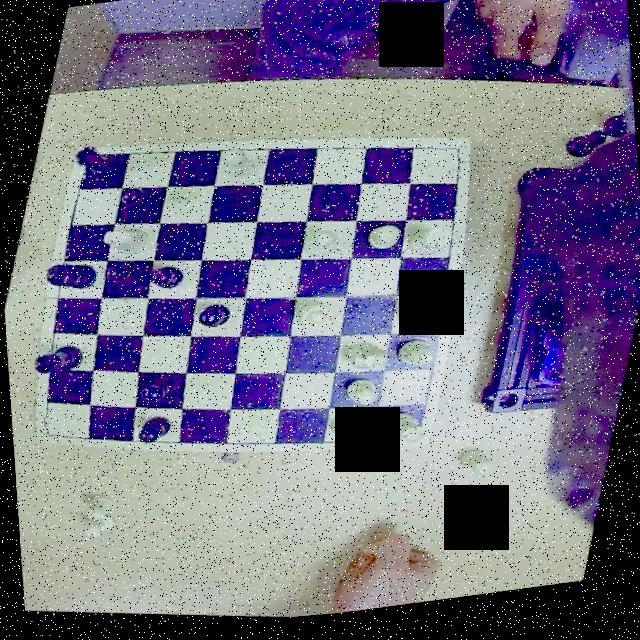chess-table-corners: (430, 146, 470, 186), (68, 147, 108, 185), (394, 418, 432, 456), (30, 414, 66, 446)
